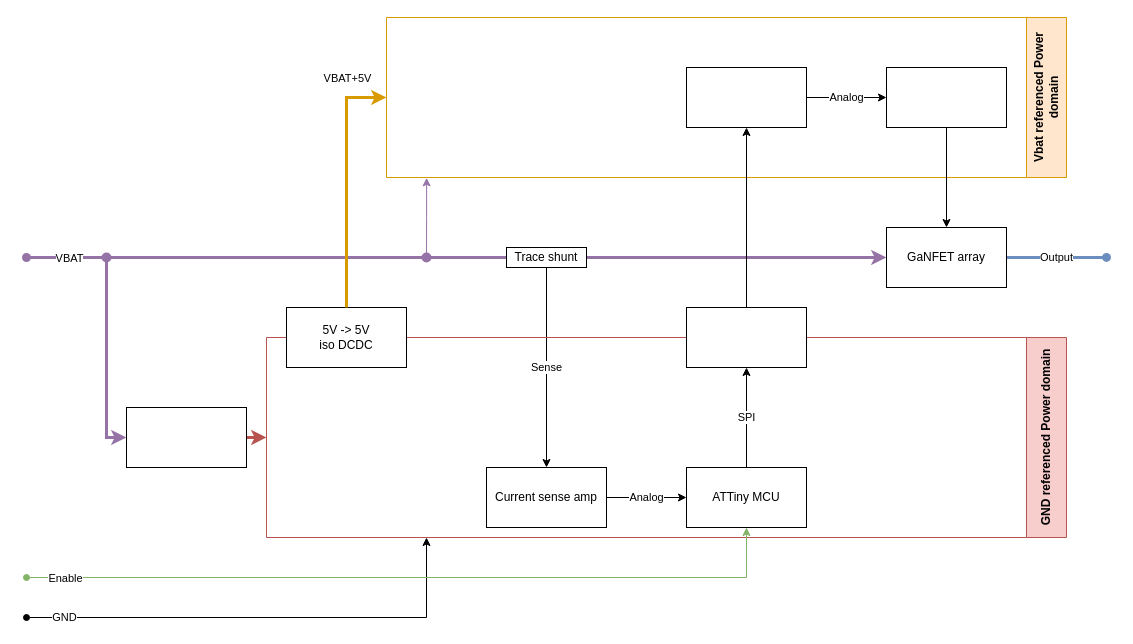
The diagram is 1133 pixels wide and 644 high, and some of its shapes have lost their labels. Each missing label, with the centre of its shape:
"Buffer" goes at [946,97].
"Level shift / iso" goes at [746,337].
"SPI DAC" goes at [746,97].
"VBAT > 5V buck DCDC" goes at [186,437].
